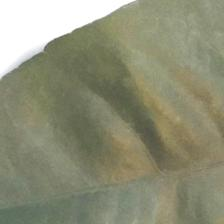healthy: (0, 11, 224, 208)
